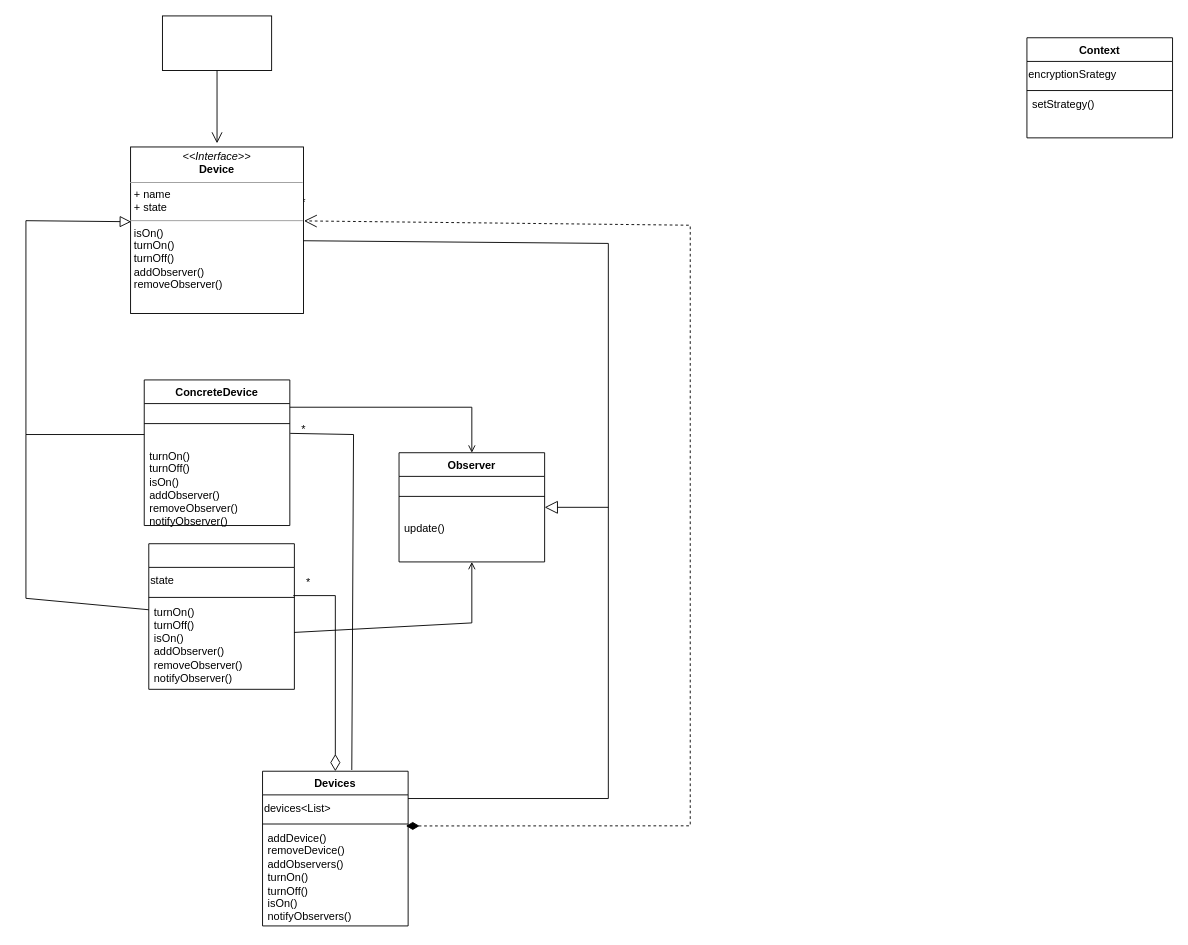
This 1188x945 diagram has some shape labels left out. The box of each missing label's shape, as (x1, y1, x2, y2) in pixels:
ChangeState: (148, 543, 294, 689)
User: (162, 15, 272, 71)
